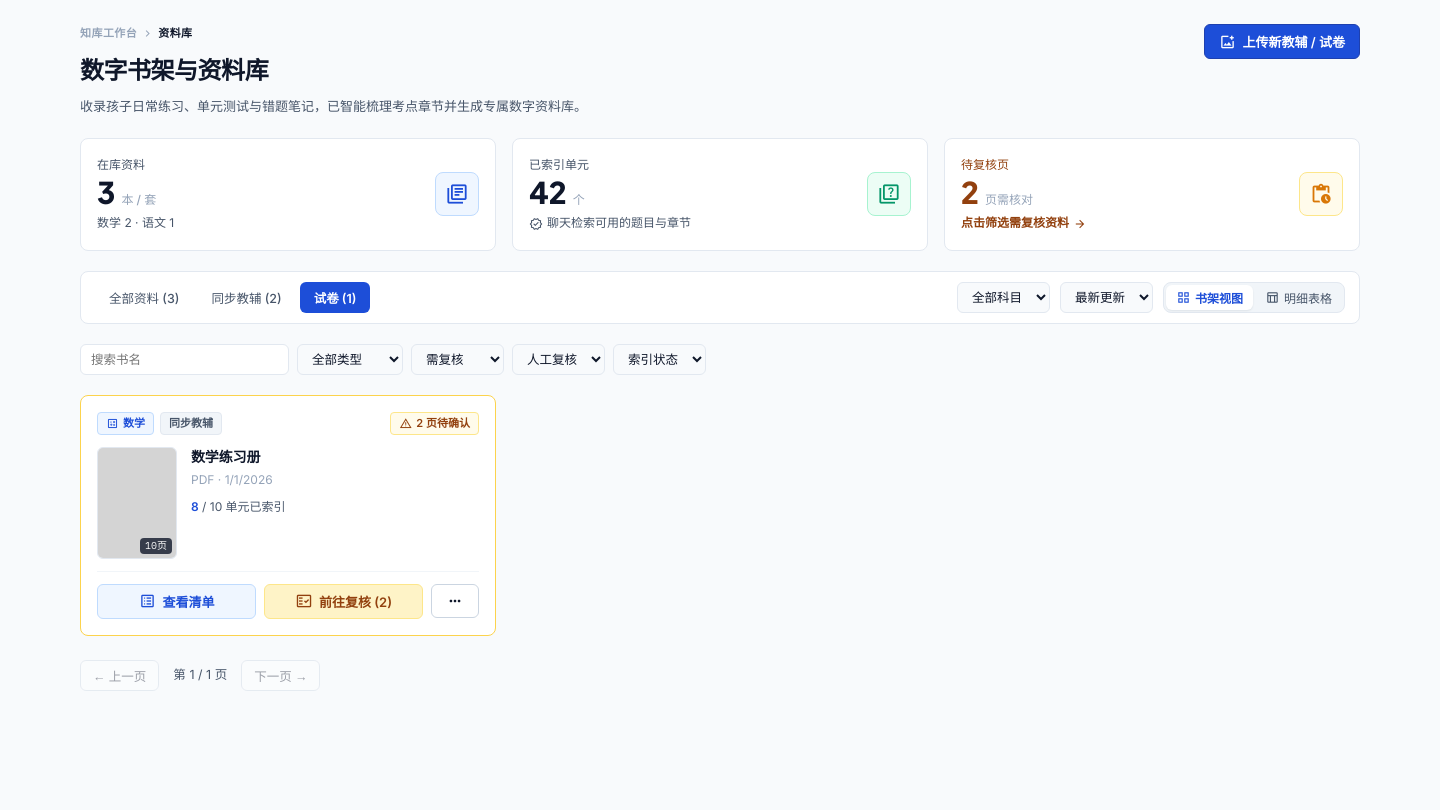
LibraryView › 切到明细表格视图：审核与索引计数、查看入口
Expected: the button "数学练习册" is shown, [191, 446, 479, 466]
Click the button "明细表格": (1298, 297) [1255, 285, 1342, 310]
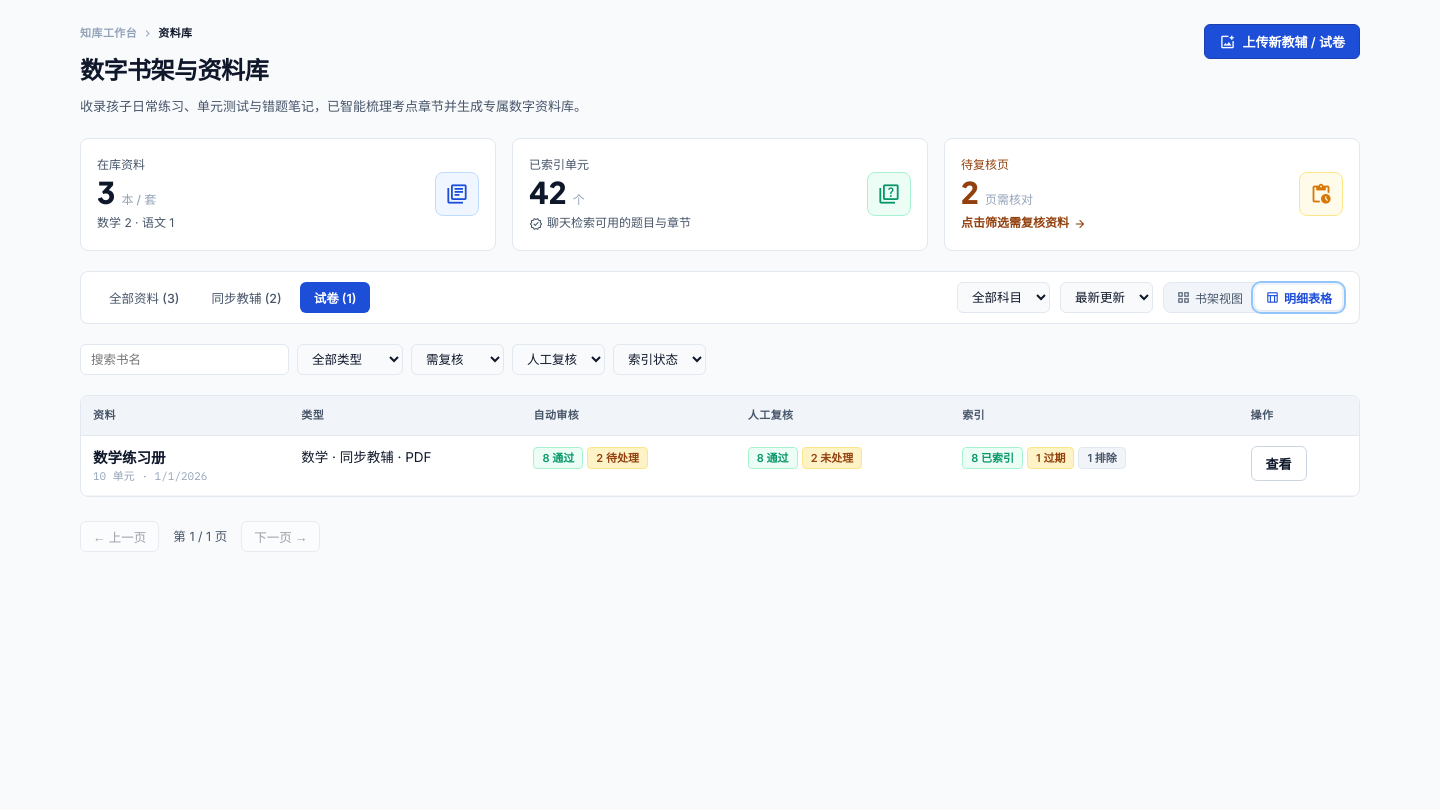
Now the element with class "library-table" is shown, box [80, 395, 1360, 497]
Now the column heading "自动审核" is shown, box [521, 396, 736, 435]
Now the text "8 通过" in the row of "待处理" is shown, box [533, 446, 583, 469]
